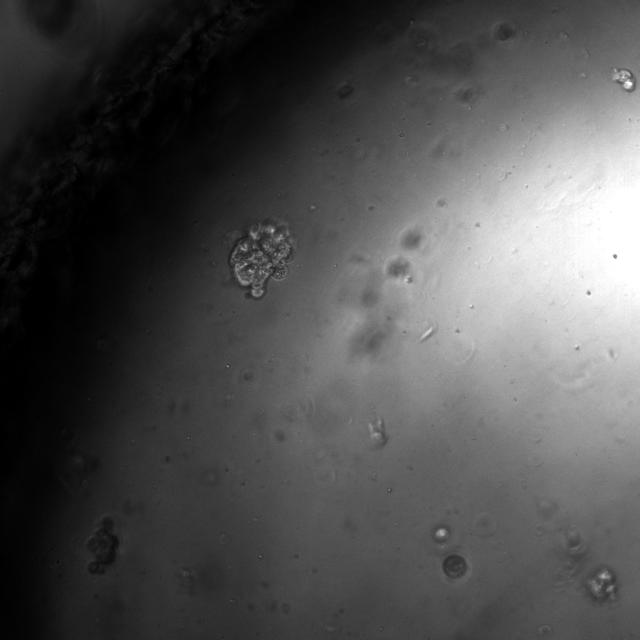organoid: (229, 223, 294, 298), (86, 518, 119, 574), (584, 565, 617, 603), (442, 554, 468, 578), (611, 68, 635, 93)
